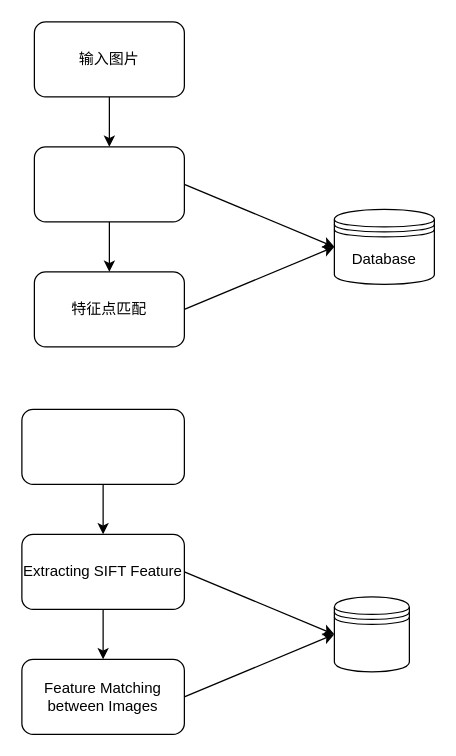
This 456x756 diagram has some shape labels left out. The centre of each missing label's shape, as x and y in pixels:
Input Images: pixel 102 446
提取SIFT特征点: pixel 108 184
